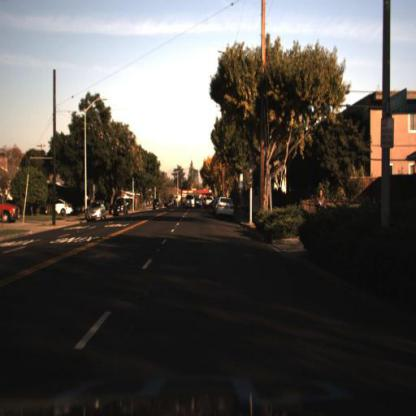car: (84, 201, 108, 225), (1, 196, 21, 223), (49, 198, 74, 218), (217, 196, 236, 221), (113, 195, 131, 218), (184, 193, 198, 214), (155, 199, 167, 217)
pedestrian: (313, 187, 329, 213)
